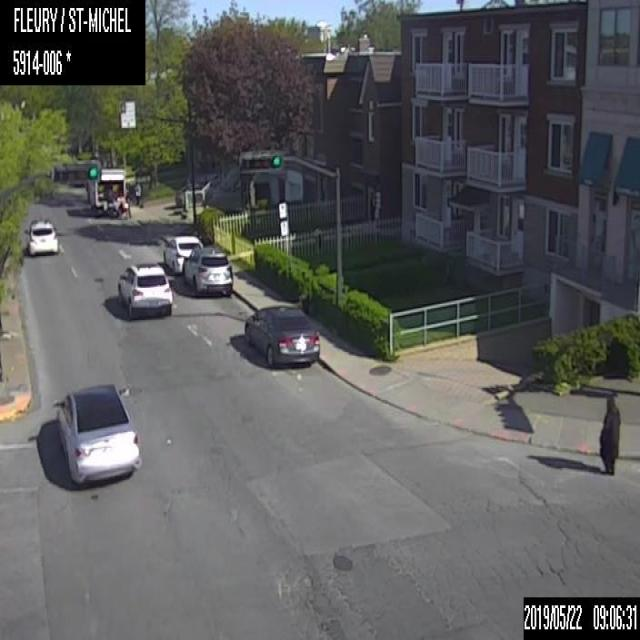pedestrian: (598, 395, 621, 476), (133, 180, 141, 205)
vehicle: (51, 382, 142, 486), (242, 302, 321, 366), (115, 261, 173, 323), (182, 246, 234, 296), (85, 163, 130, 217), (162, 233, 202, 276), (25, 216, 59, 256)
